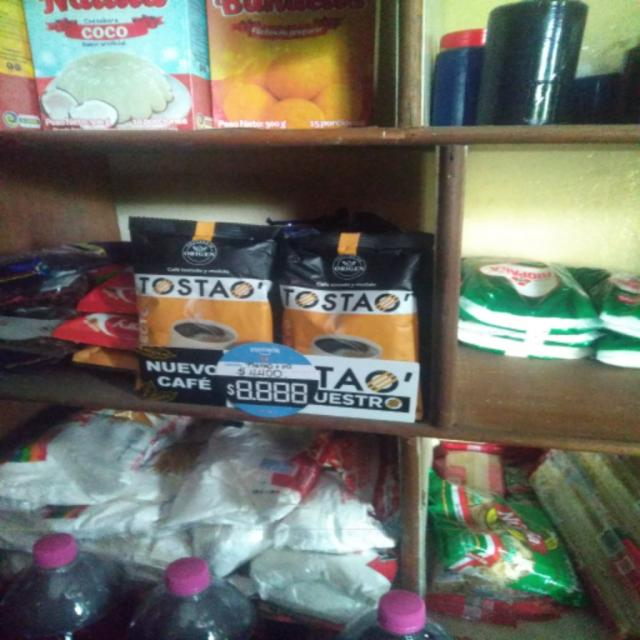Cafe_tostado: (127, 220, 274, 354), (277, 224, 423, 356)
Precio: (222, 344, 315, 422)
